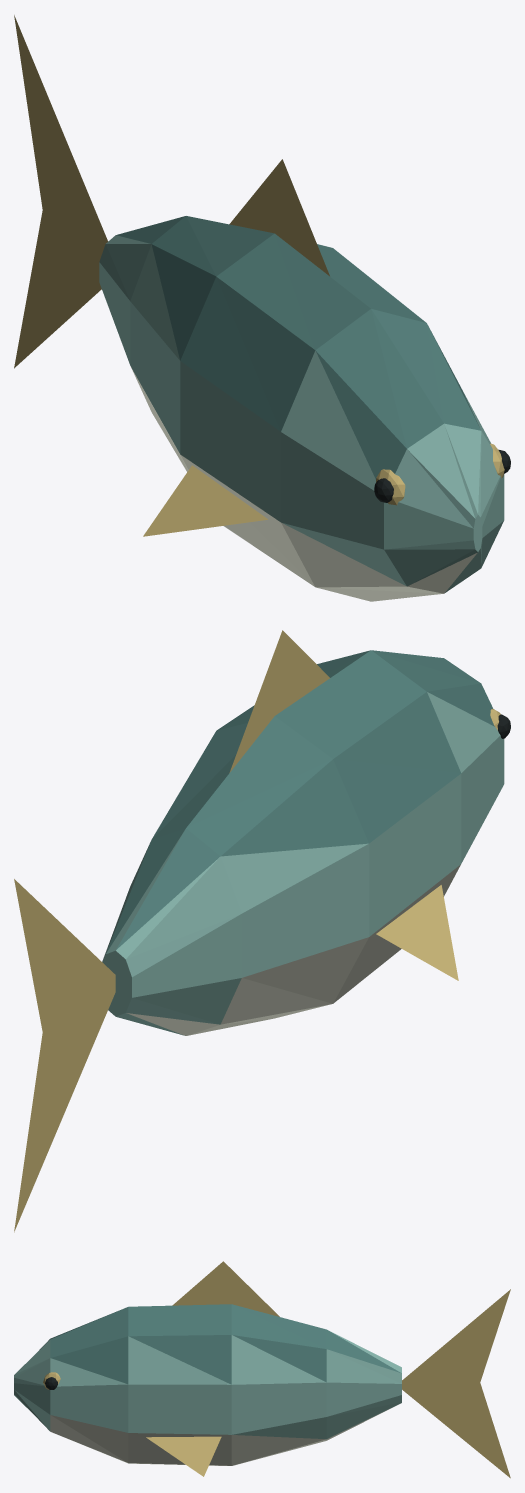
The model's file is river-fish.glb.
3 renders of one model, top to bottom at view 1: azimuth 30°, elevation 25°; view 2: azimuth 150°, elevation 25°; view 3: azimuth 270°, elevation 25°, orthographic. The views are drawn at different scales.
Visible parts, largest first — view 1: Static_mesh, Tail_mesh; view 2: Static_mesh, Tail_mesh; view 3: Static_mesh, Tail_mesh.
Part boxes in pixels (<box>): Static_mesh: <box>99,159,510,601</box>; Tail_mesh: <box>14,15,107,368</box>; Static_mesh: <box>102,630,510,1035</box>; Tail_mesh: <box>14,879,115,1232</box>; Static_mesh: <box>14,1261,401,1476</box>; Tail_mesh: <box>402,1289,510,1478</box>.
Size of the model in its own units: 0.7 by 0.86 by 1.78.
